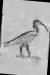G25: (2, 0, 49, 74)
